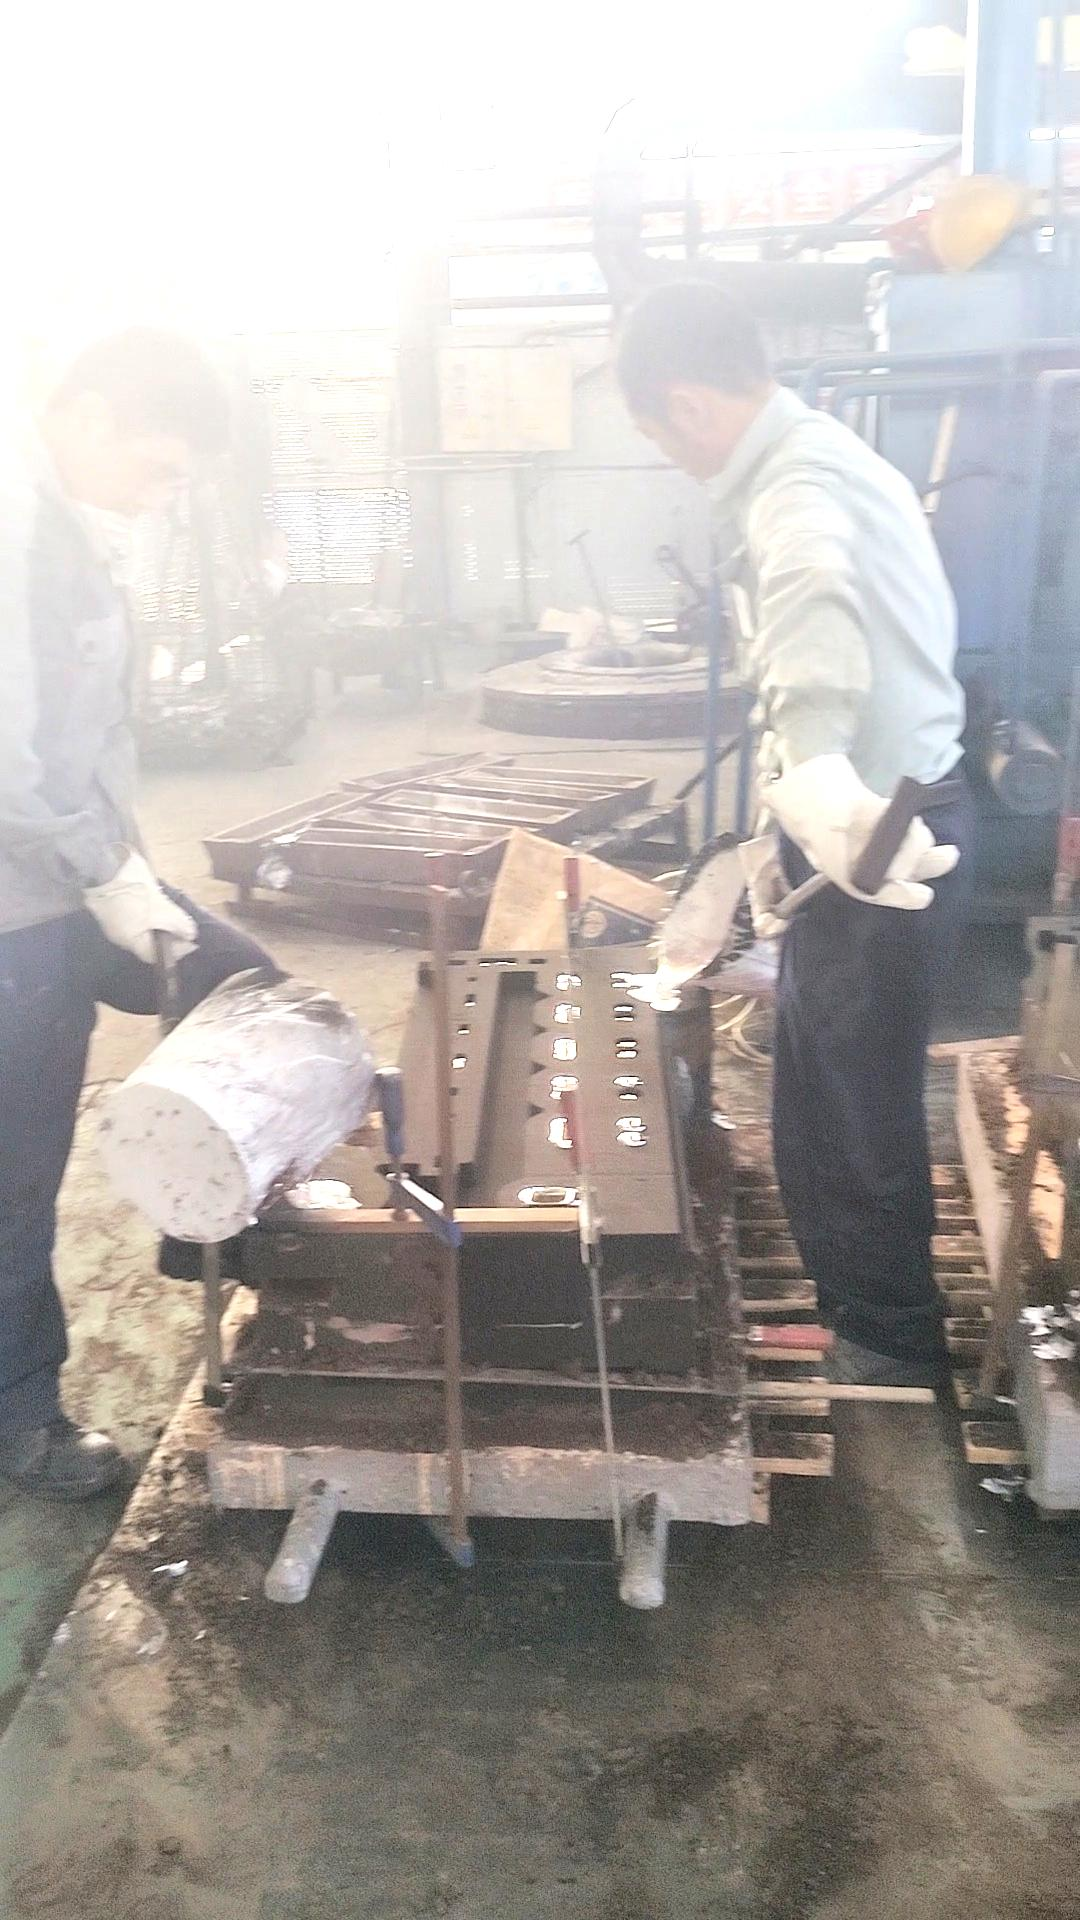pouring hole: (286, 1178, 353, 1212), (636, 975, 684, 1005)
